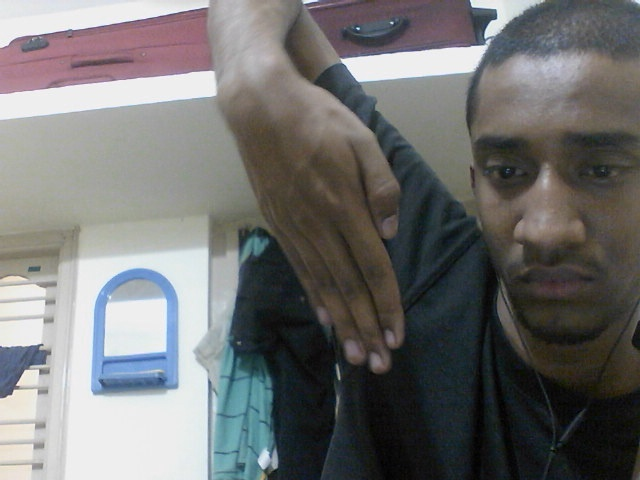hand: (212, 63, 411, 378)
